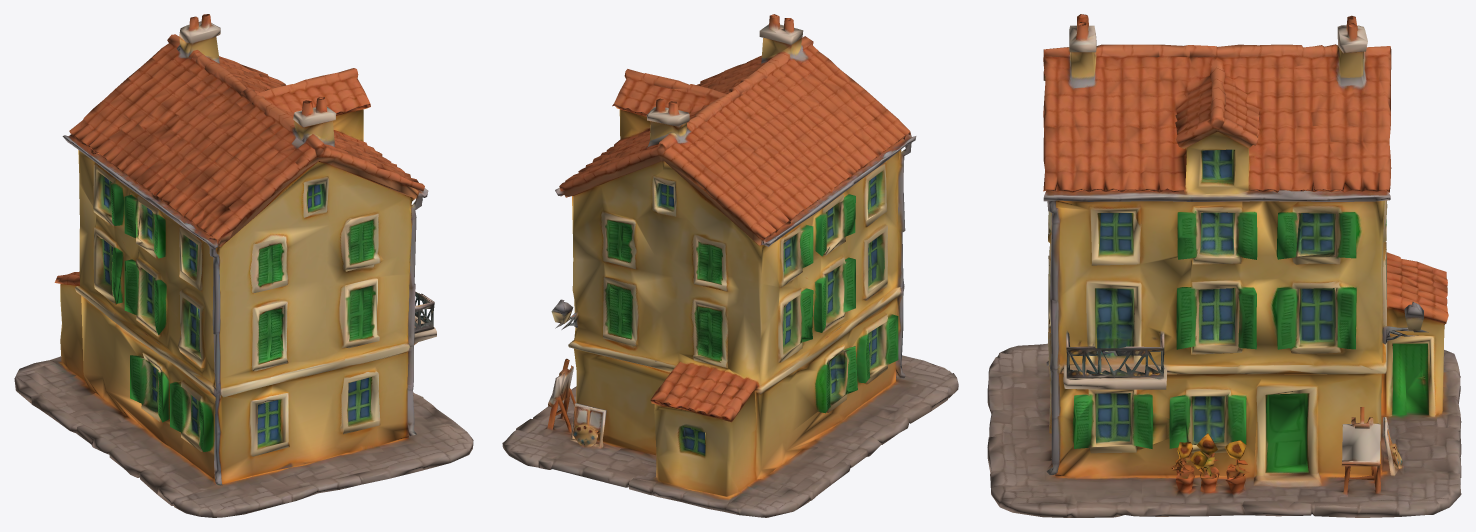
File: lm_vangogh.glb
The picture shows the model from 3 angles, left to right: view 1: azimuth 30°, elevation 25°; view 2: azimuth 150°, elevation 25°; view 3: azimuth 270°, elevation 25°; orthographic projection. The views are drawn at different scales.
Visible parts, largest first — view 1: tripo_node_f75afbe6-9f22-41e6-abd2-f88622078576; view 2: tripo_node_f75afbe6-9f22-41e6-abd2-f88622078576; view 3: tripo_node_f75afbe6-9f22-41e6-abd2-f88622078576.
Part boxes in pixels (box(x1,y1,x2,y2)): tripo_node_f75afbe6-9f22-41e6-abd2-f88622078576: box(14, 14, 473, 517); tripo_node_f75afbe6-9f22-41e6-abd2-f88622078576: box(502, 14, 958, 517); tripo_node_f75afbe6-9f22-41e6-abd2-f88622078576: box(987, 14, 1461, 517).
Size of the model in its own units: 0.8399 by 0.9802 by 0.9989.
Materials: 1 (1 with a texture image).
